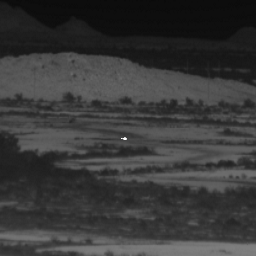Target: (120, 136, 128, 141)
